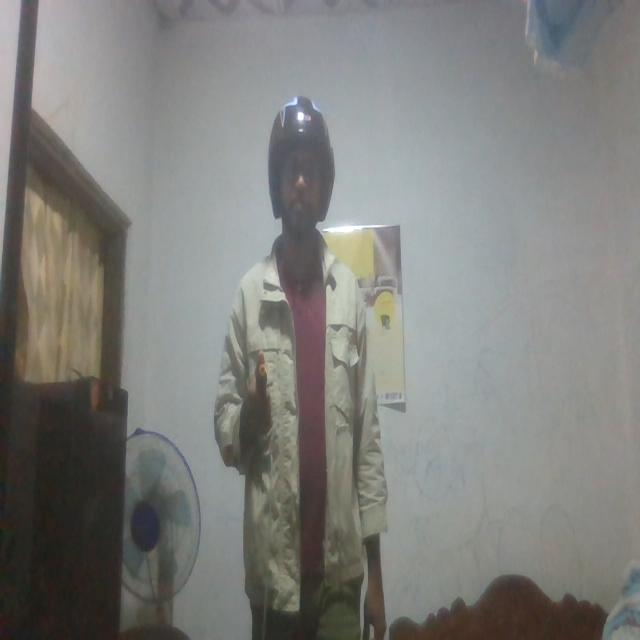Gun_Holder: (244, 350, 282, 446)
Helmet_Wearer: (264, 92, 338, 273)
Jacket_Wearer: (214, 241, 398, 599)
Person: (213, 93, 395, 640)
